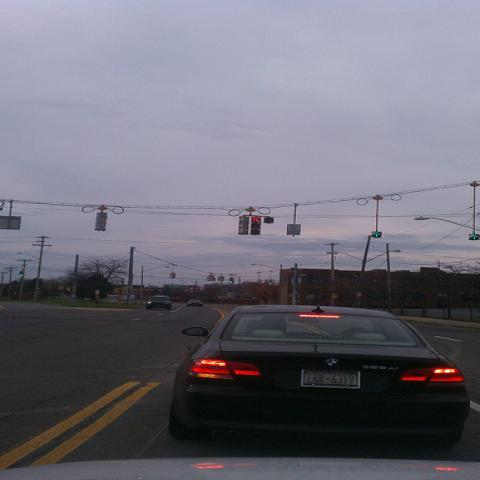car: (167, 306, 468, 450), (1, 459, 479, 476), (146, 296, 172, 310), (187, 299, 203, 307)
